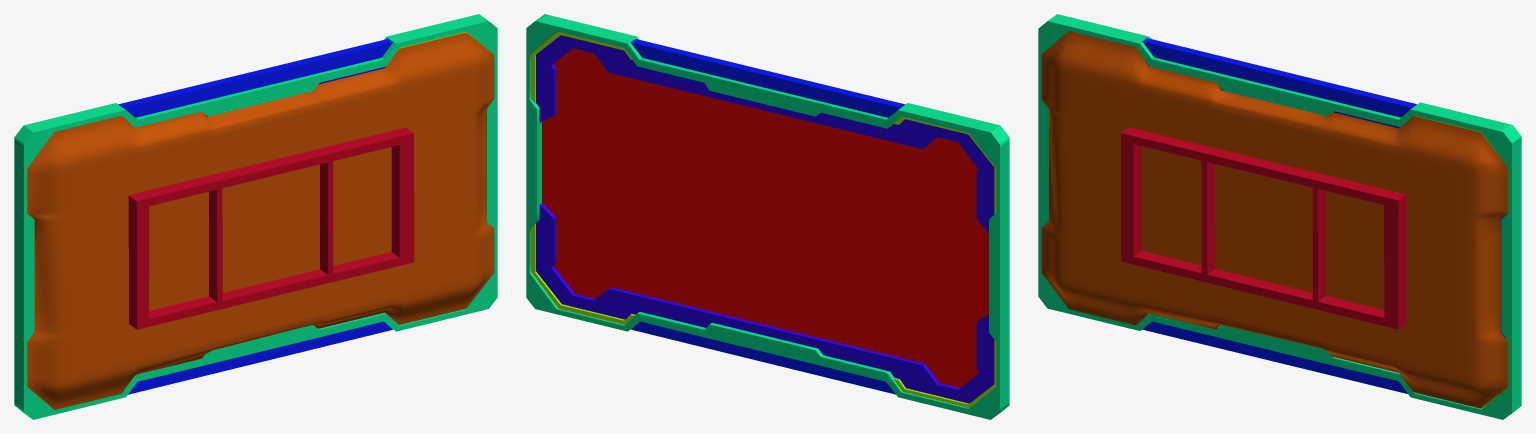
The model's file is Sci-fi_monitor.fbx.
3 views of the same model, side by side, from view 1: azimuth 30°, elevation 25°; view 2: azimuth 150°, elevation 25°; view 3: azimuth 330°, elevation 25° (orthographic).
Parts seen in each view (by area): view 1: monitor_backpannel, monitor_base, monitor_mount, monitor_base_4; view 2: monitor_display, monitor_base, monitor_base_3, monitor_base_4, monitor_base_2; view 3: monitor_backpannel, monitor_base, monitor_mount, monitor_base_4.
Boxes of the visible parts, x1,y1,x2,y2 form: monitor_backpannel: (27, 32, 493, 409); monitor_base: (14, 14, 497, 419); monitor_mount: (128, 127, 414, 329); monitor_base_4: (118, 38, 392, 394); monitor_display: (542, 32, 988, 387); monitor_base: (526, 14, 1009, 419); monitor_base_3: (536, 35, 994, 403); monitor_base_4: (631, 39, 905, 394); monitor_base_2: (531, 31, 996, 407); monitor_backpannel: (1041, 31, 1508, 408); monitor_base: (1038, 14, 1521, 419); monitor_mount: (1121, 127, 1406, 329); monitor_base_4: (1142, 38, 1416, 393).
Size of the model in its own units: 33.78 by 19.62 by 3.04.
